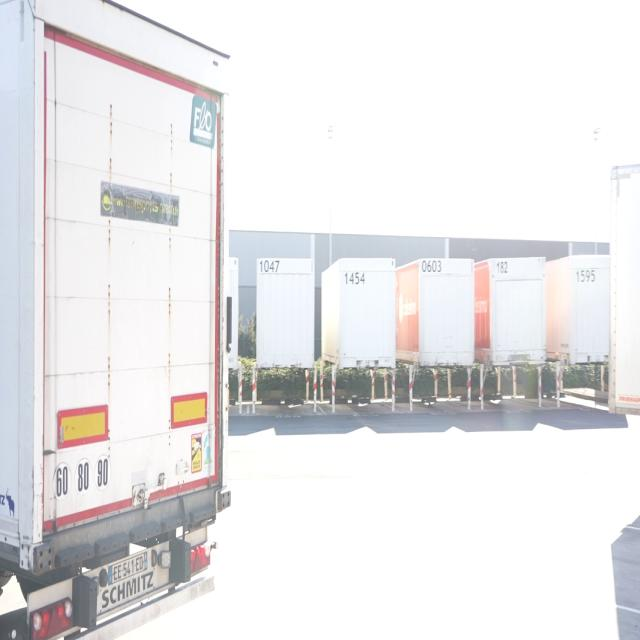Code: (256, 252, 286, 282), (572, 262, 598, 288), (344, 265, 370, 289), (417, 256, 444, 276), (494, 256, 513, 278)
